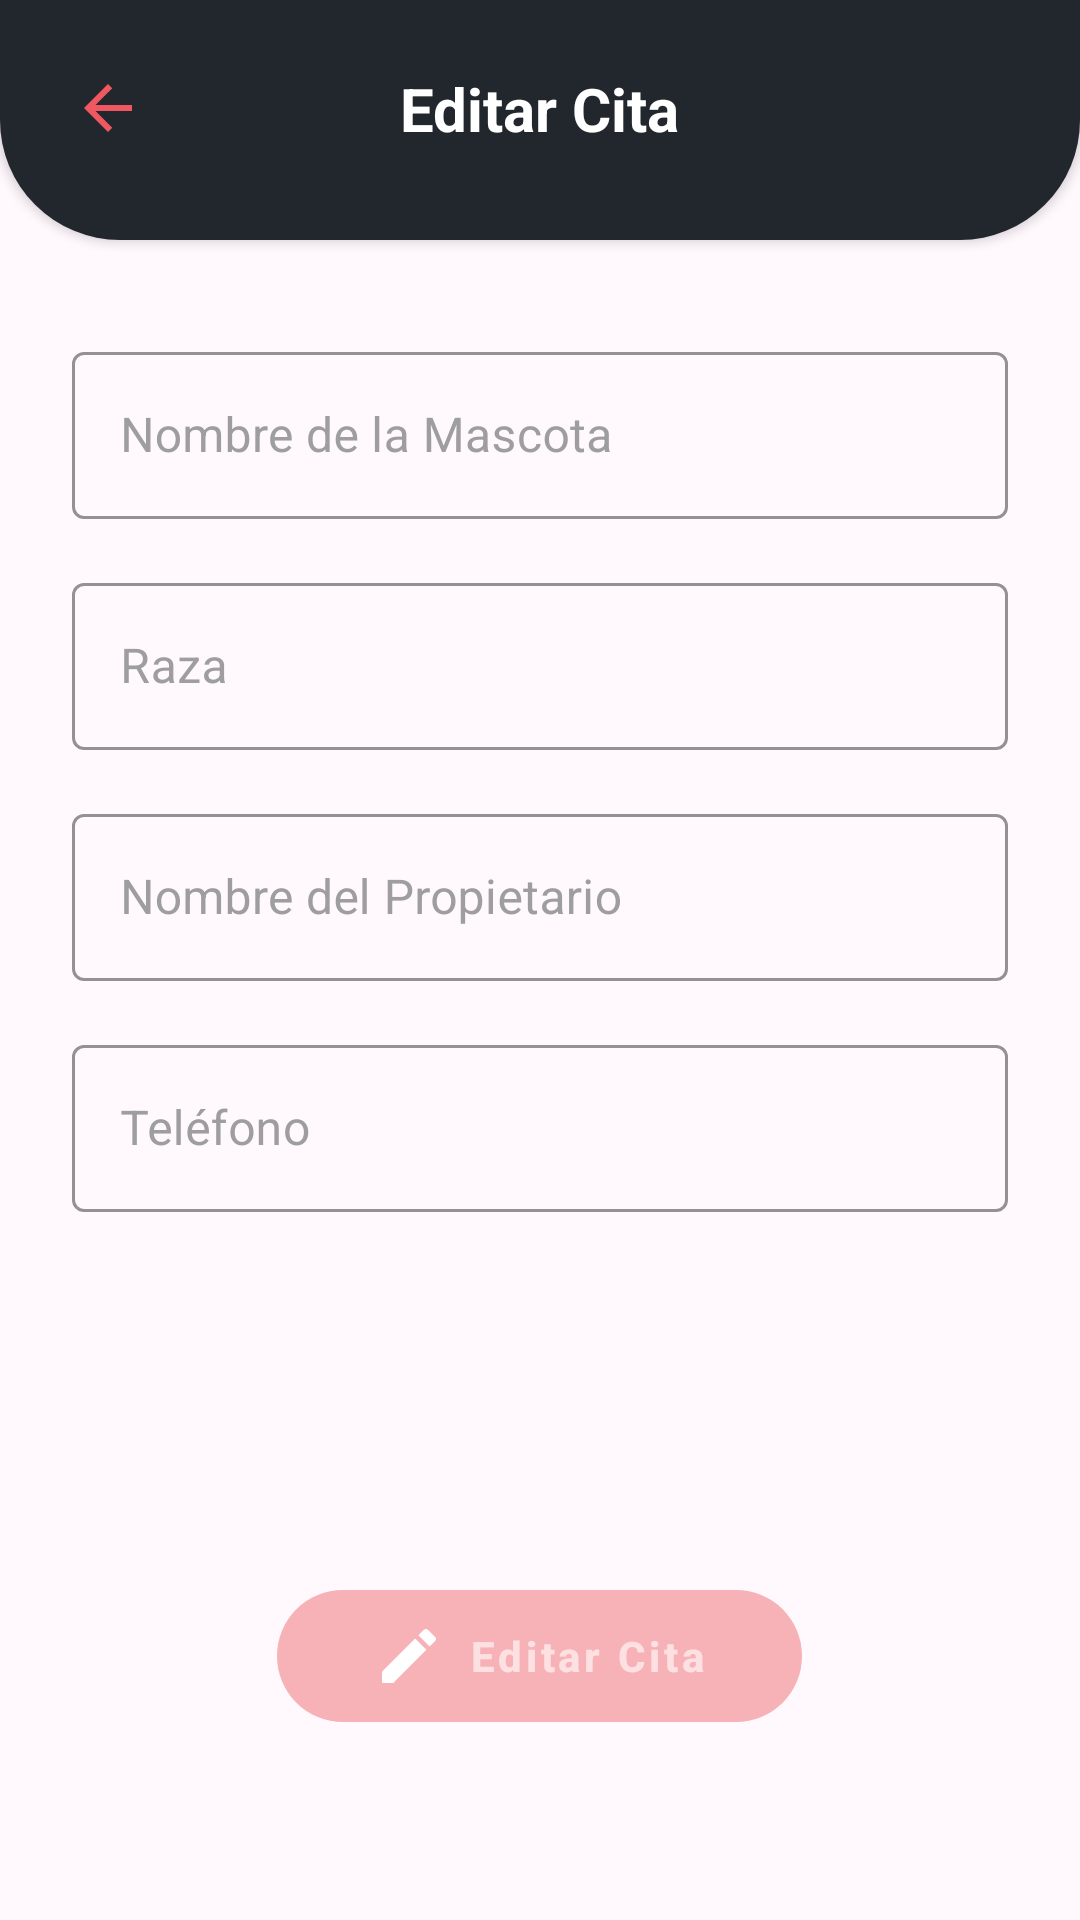

Locate icon controls on the screen. Image size 1080 x 1920, boxes as (x1, y1, x2, y2).
Volver: (84, 84, 132, 132)
